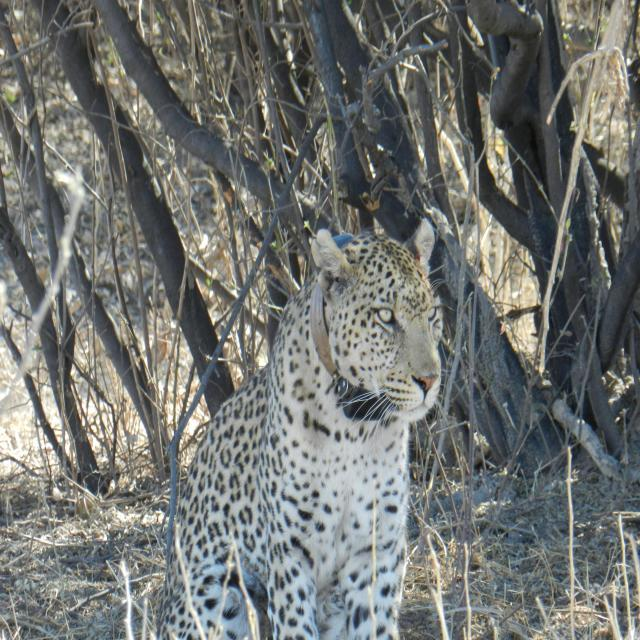Leopard: (125, 212, 446, 640)
